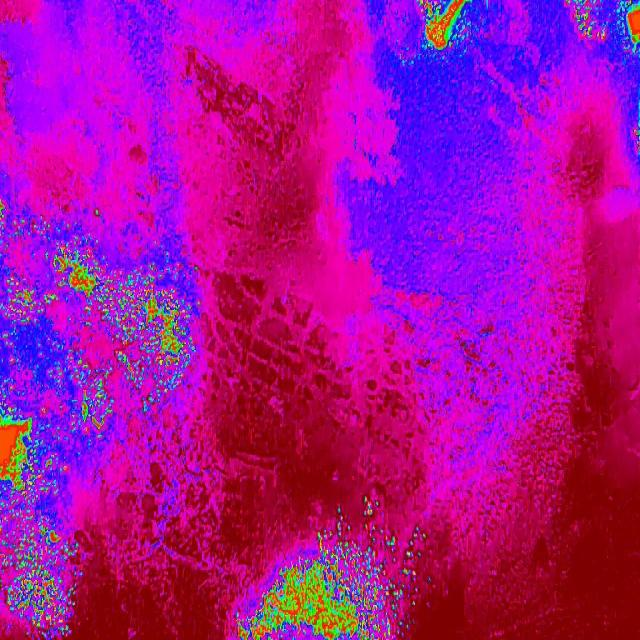fire: (0, 194, 95, 640), (94, 255, 208, 444), (230, 549, 404, 640), (410, 0, 477, 65), (561, 0, 640, 49), (316, 498, 382, 548), (404, 522, 428, 604)
